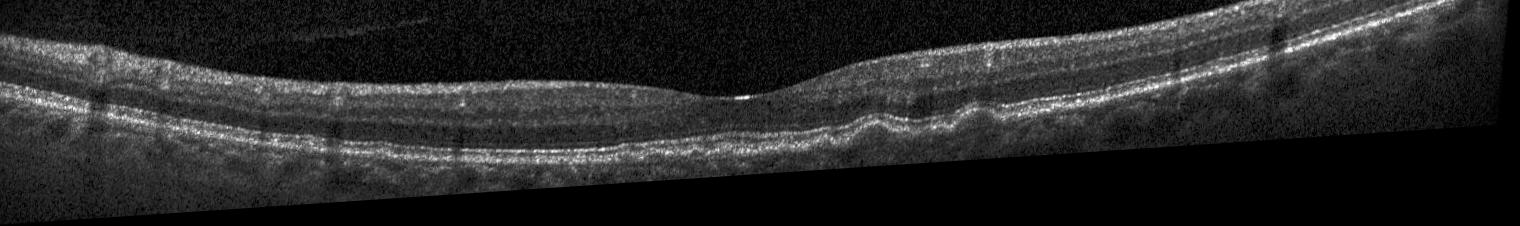retinal_drusen: (853, 137, 917, 158), (958, 123, 1006, 145), (710, 157, 755, 169), (926, 138, 954, 153), (648, 162, 689, 172), (612, 162, 644, 172), (814, 149, 836, 161), (377, 154, 397, 166), (690, 159, 708, 170), (759, 160, 781, 169), (783, 156, 796, 165)
